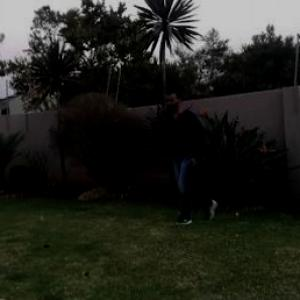follow: (168, 80, 208, 224)
